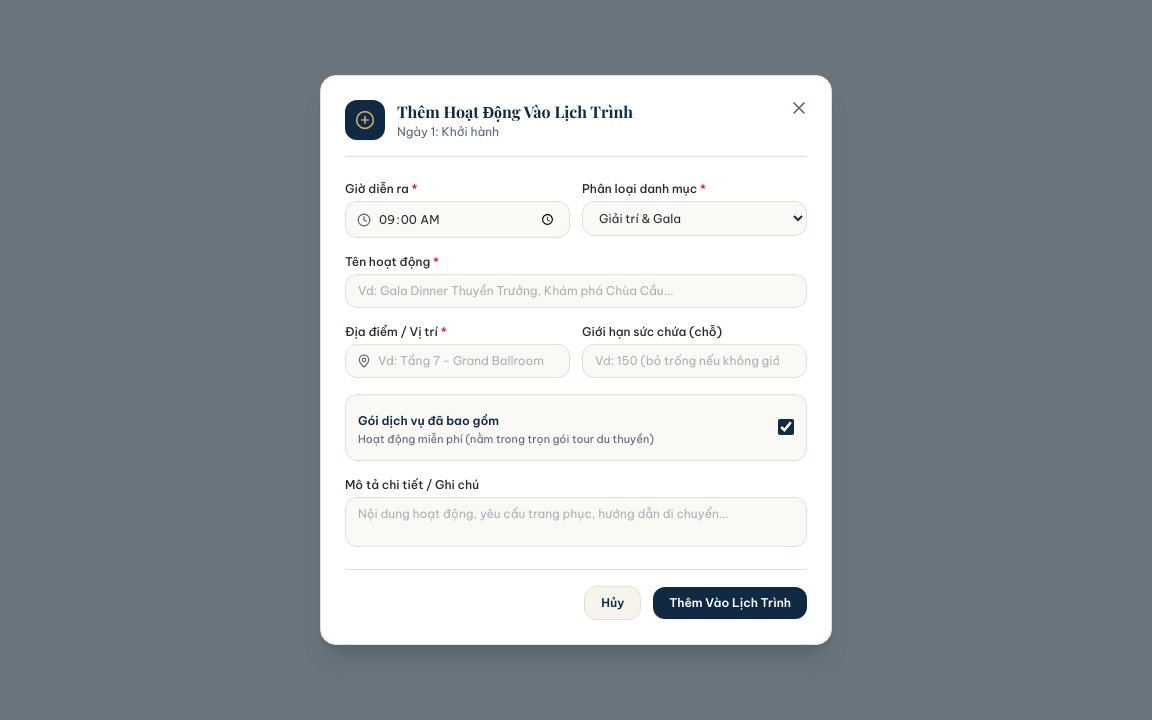
Itinerary Validation and Error States (KAN-122) › ActivityFormModal - Field Validation Rules › validates capacity must be greater than zero when specified
The width and height of the screenshot is (1152, 720).
Type "0" into the number field with placeholder "Vd: 150 (bỏ trống nếu không giới hạn)" at [694, 361], box [582,344,807,378]
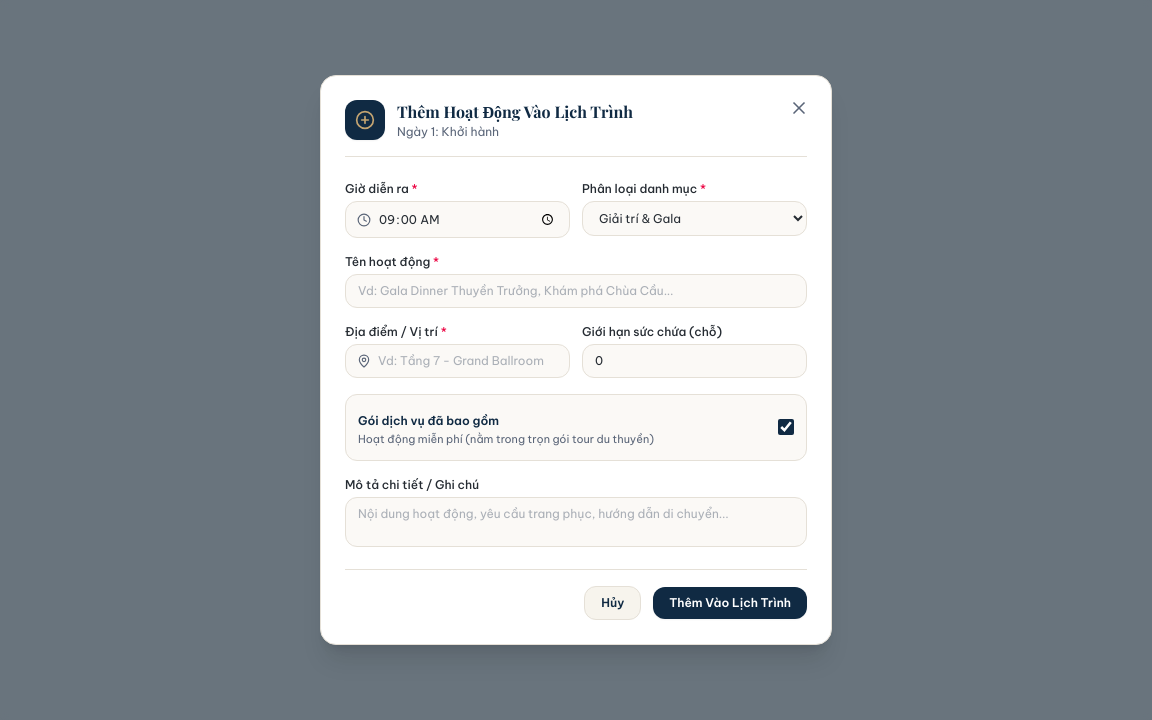
Click the button "Thêm Vào Lịch Trình" at [730, 602], box [653,586,807,618]
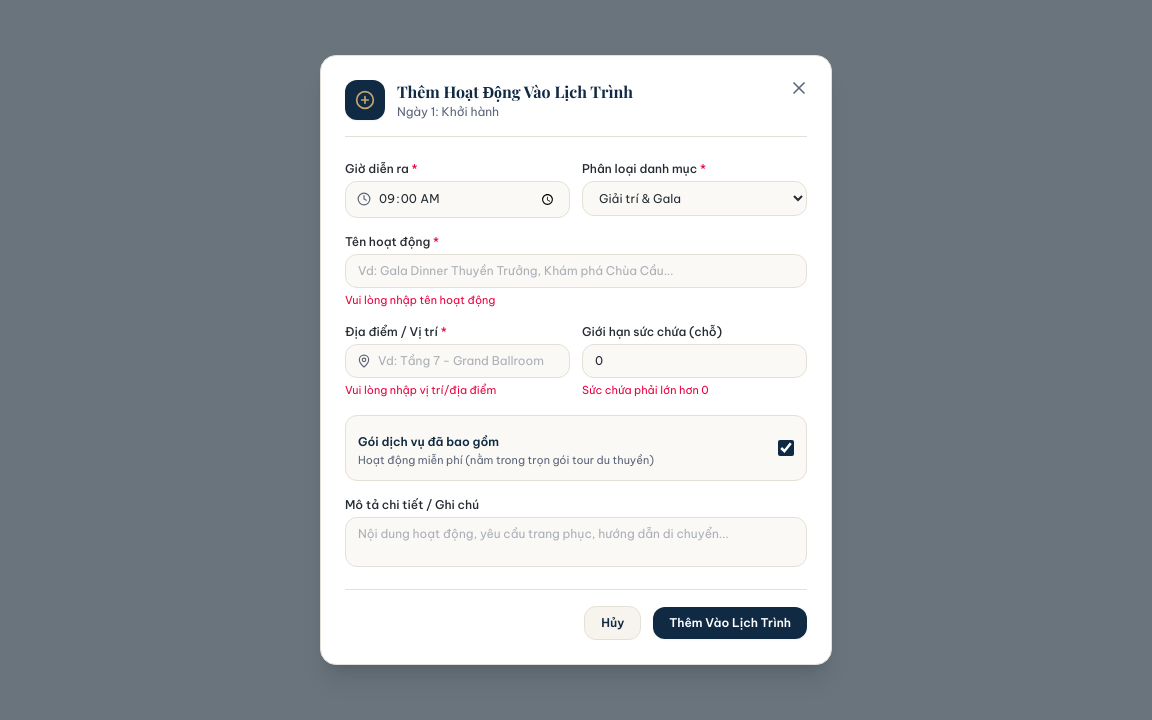
Expected: the text "Sức chứa phải lớn hơn 0" is shown, [582,383,709,397]
